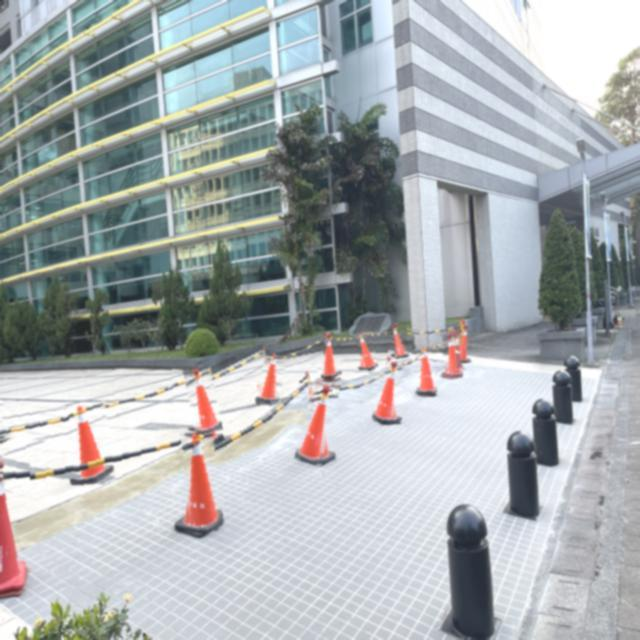traffic cone: (174, 435, 224, 539), (0, 455, 28, 601), (69, 405, 114, 486), (294, 401, 336, 466), (190, 384, 223, 435), (372, 377, 402, 426), (255, 361, 281, 405), (441, 334, 464, 380), (320, 333, 341, 382), (416, 354, 438, 397), (357, 337, 378, 371), (458, 320, 472, 364), (392, 327, 410, 359)
